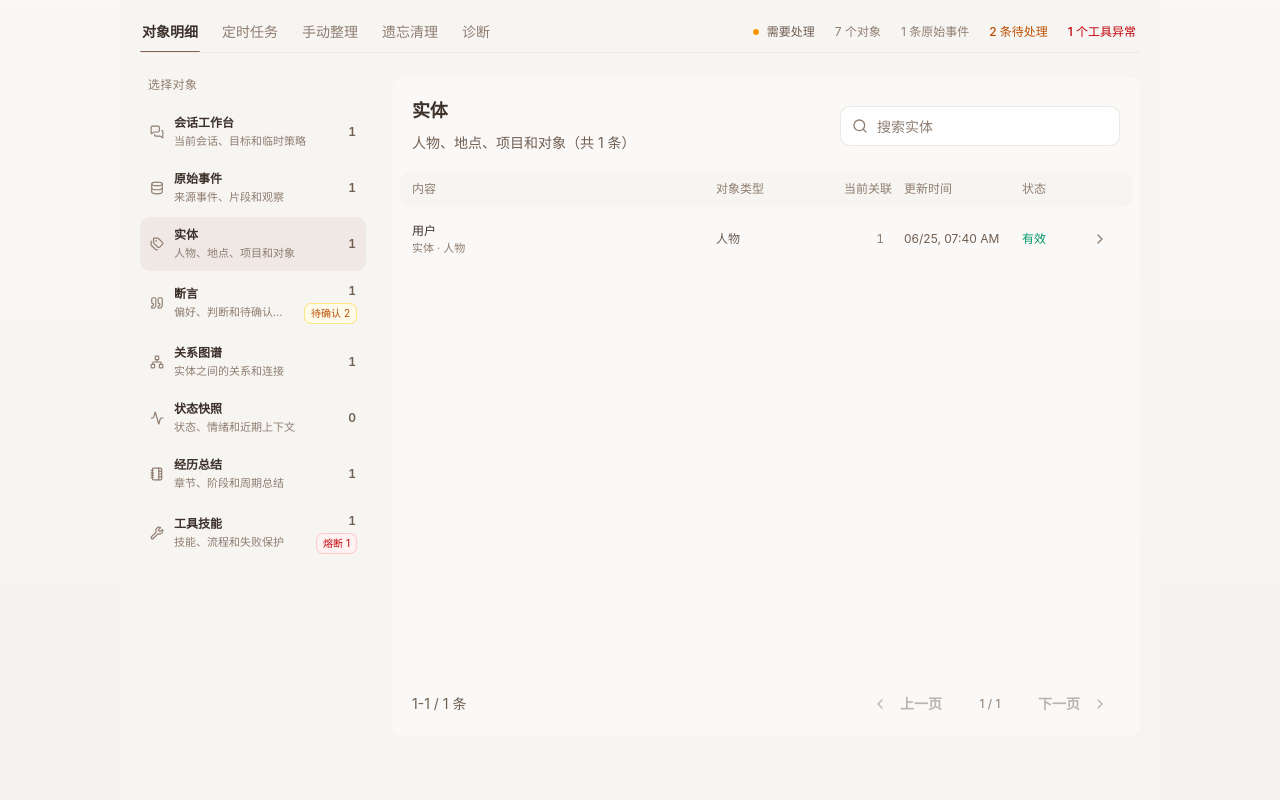
Test: MemoryGovernancePage › uses hydrated relation names when the entity cache is stale
Click the button "关系图谱 实体之间的关系和连接 1" at (253, 362), box [140, 335, 366, 389]
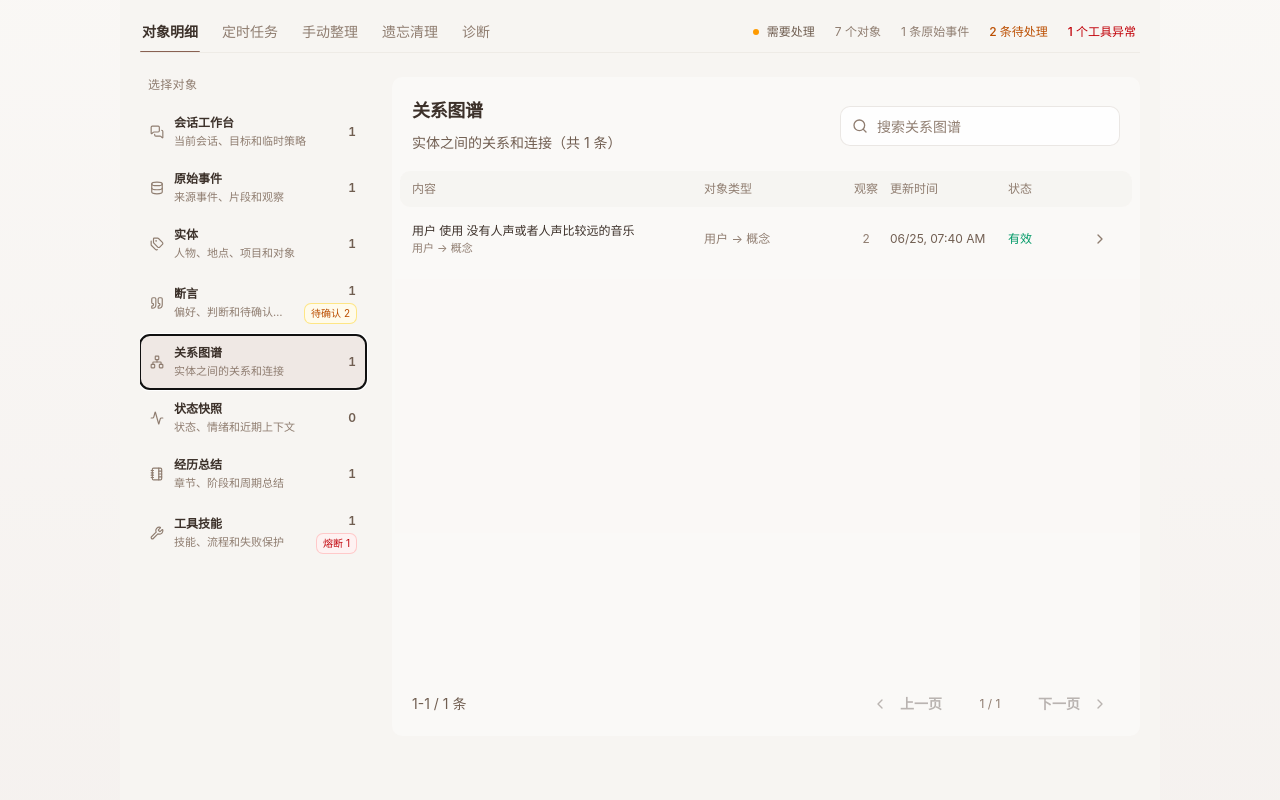
Check: the text "用户 → 概念" is shown 2 times, box [412, 241, 473, 255]; [704, 231, 770, 246]
Check: the button with aria-label "打开记录 用户 使用 没有人声或者人声比较远的音乐" is shown, box [400, 211, 1132, 268]
